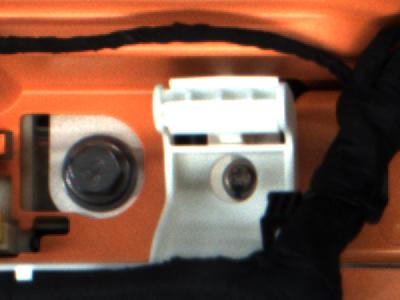nut_b: (58, 133, 143, 213)
